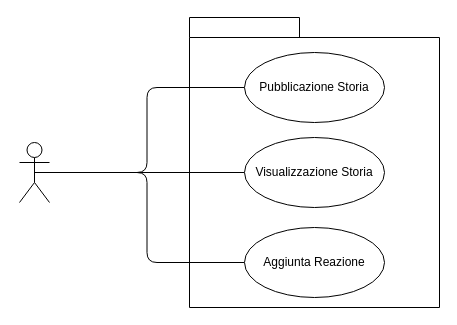
Some shapes in this 457 by 325 pixel diagram are drawn without their labels. Each missing label, with the box of its shape:
Gestione Storia: (188, 16, 440, 308)
Utente: (18, 142, 50, 202)
